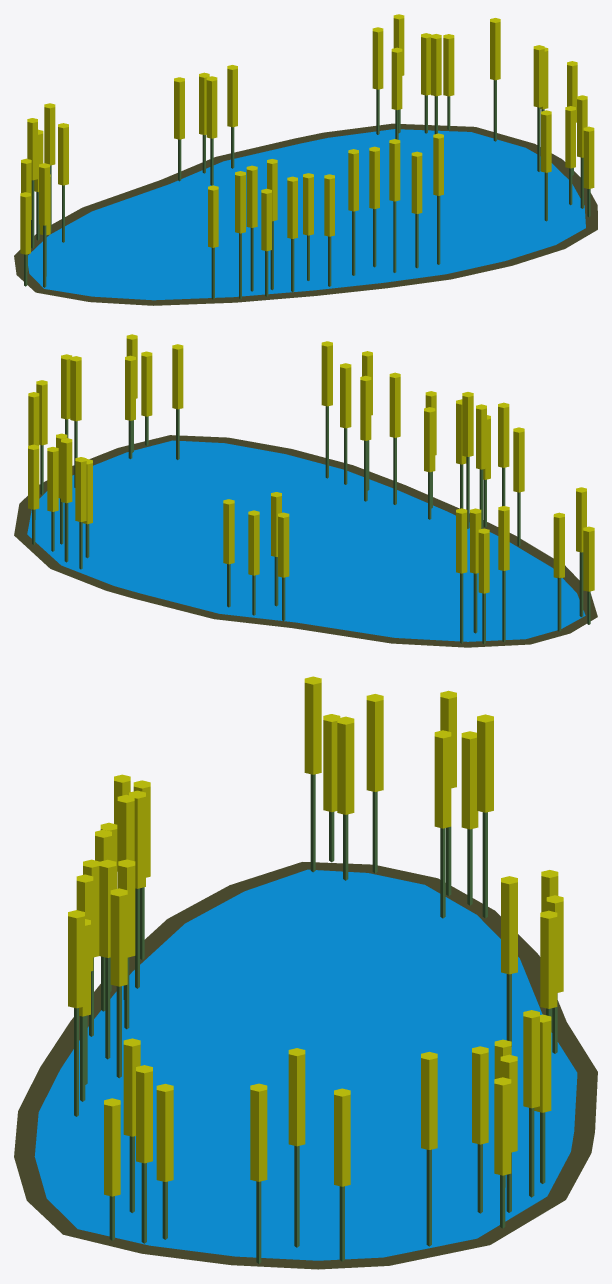
The model's file is SM_Pond.fbx.
The picture shows the model from 3 angles, top to bottom: view 1: azimuth 30°, elevation 25°; view 2: azimuth 150°, elevation 25°; view 3: azimuth 270°, elevation 25°; orthographic projection. The views are drawn at different scales.
Parts seen in each view (by area): view 1: pCylinder80; view 2: pCylinder80; view 3: pCylinder80.
Boxes of the visible parts, x1,y1,x2,y2 form: pCylinder80: (14, 14, 597, 305); pCylinder80: (14, 334, 597, 647); pCylinder80: (14, 676, 597, 1269).
Bounding box in the file's own units: 3.92 × 0.9124 × 2.35.
